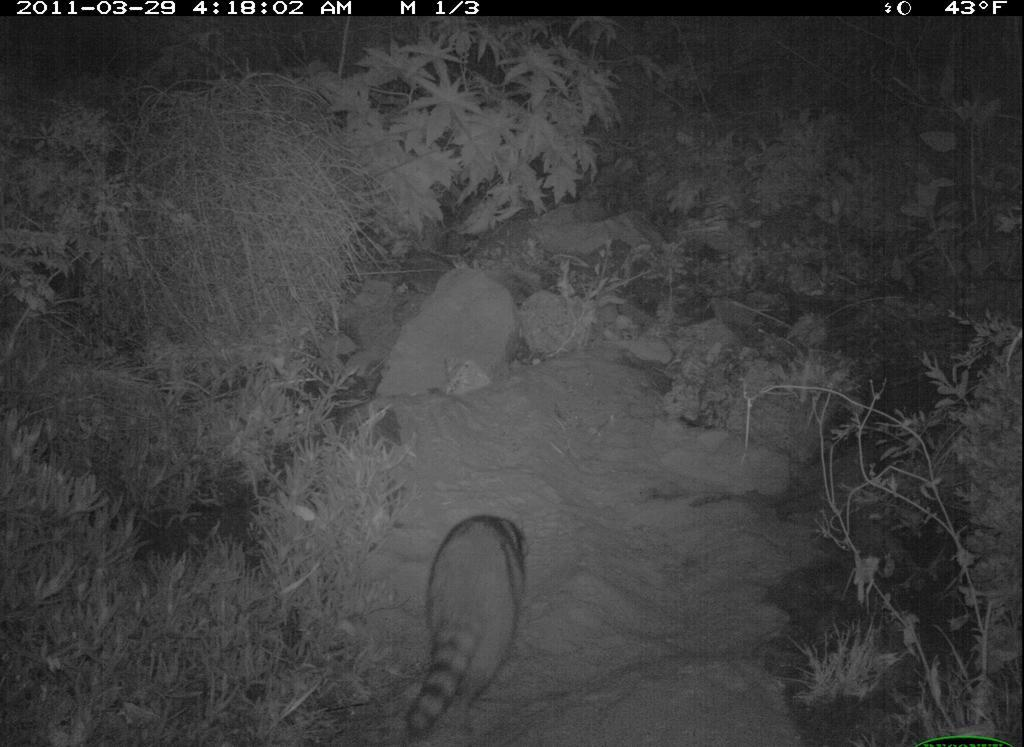raccoon: (385, 502, 542, 740)
